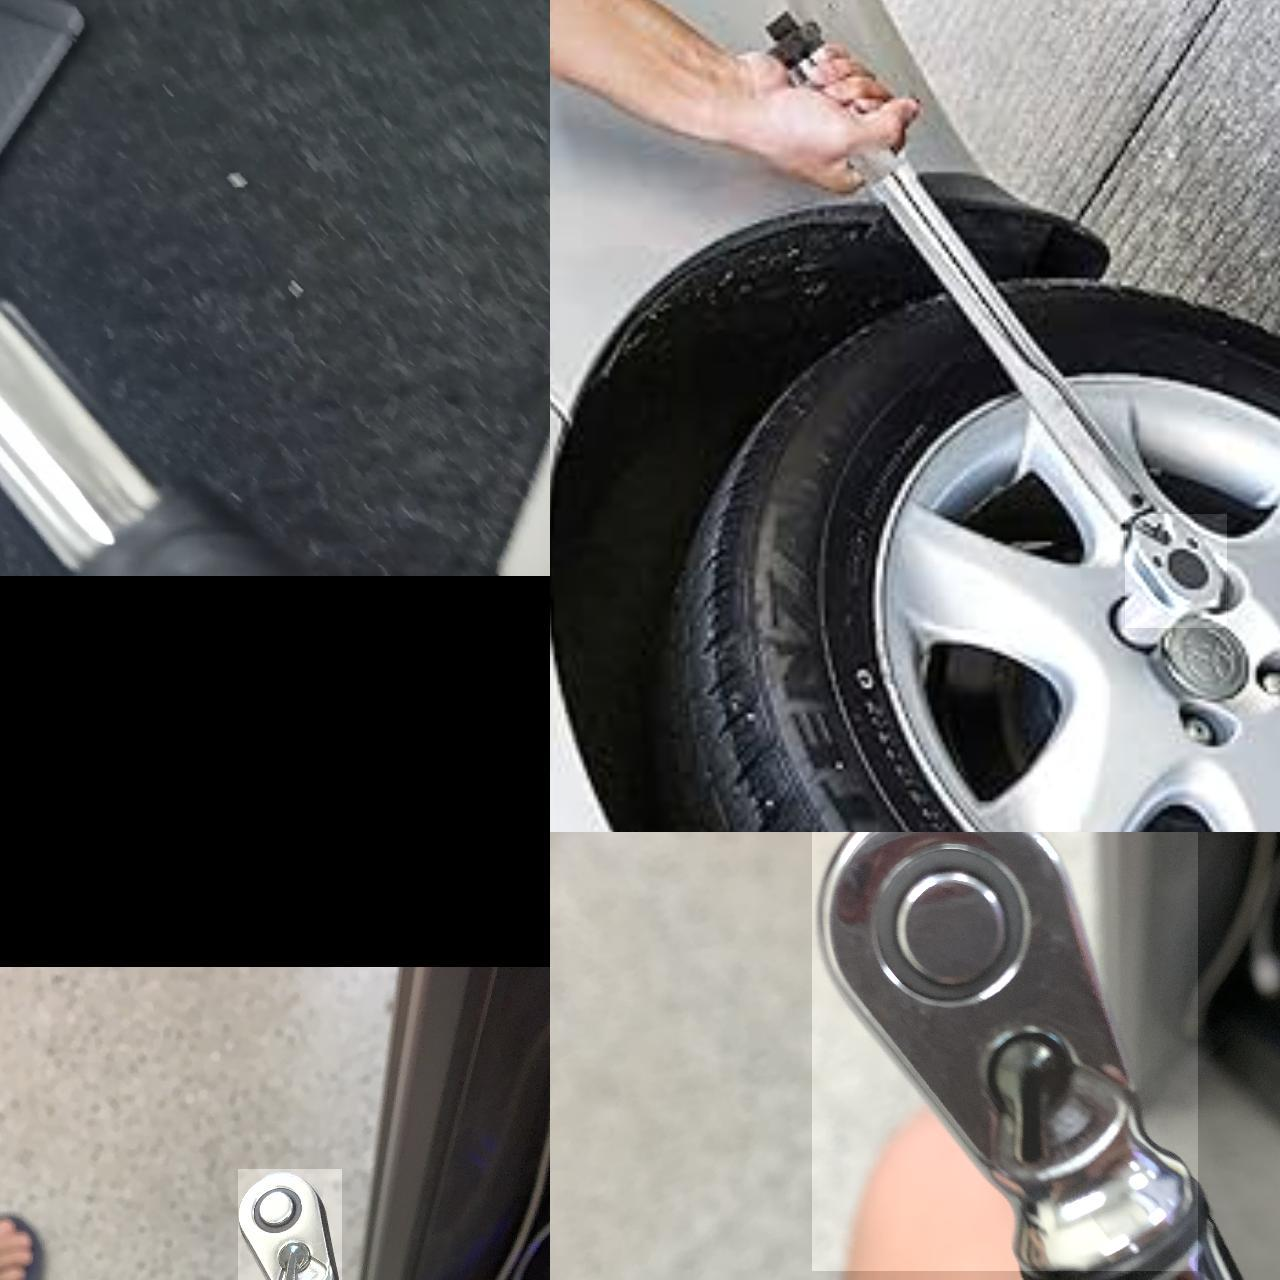Tool: (811, 832, 1197, 1271), (237, 1169, 341, 1280), (1124, 515, 1226, 628)
